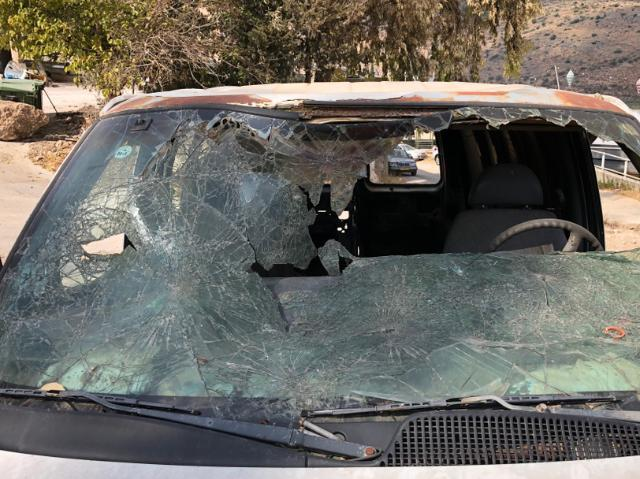Windshield: (7, 110, 640, 418)
